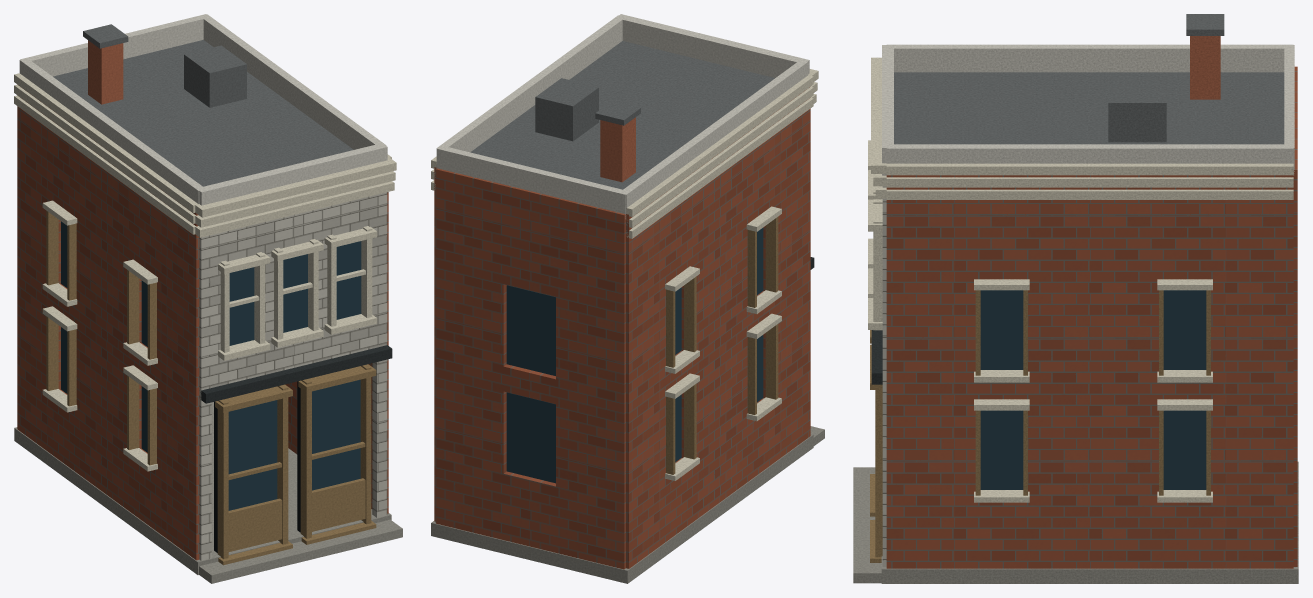
The model's file is CLSTGA13_lod2.glb.
3 renders of one model, left to right at view 1: azimuth 30°, elevation 25°; view 2: azimuth 150°, elevation 25°; view 3: azimuth 270°, elevation 25°, orthographic. The views are drawn at different scales.
Visible parts, largest first — view 1: CLSTGA13_LOD2; view 2: CLSTGA13_LOD2; view 3: CLSTGA13_LOD2.
Boxes of the visible parts, x1,y1,x2,y2 form: CLSTGA13_LOD2: [14, 14, 402, 583]; CLSTGA13_LOD2: [431, 14, 824, 583]; CLSTGA13_LOD2: [853, 14, 1298, 583].
Size of the model in its own units: 4.11 by 7.85 by 6.57.
Materials: 11 (9 with a texture image).
